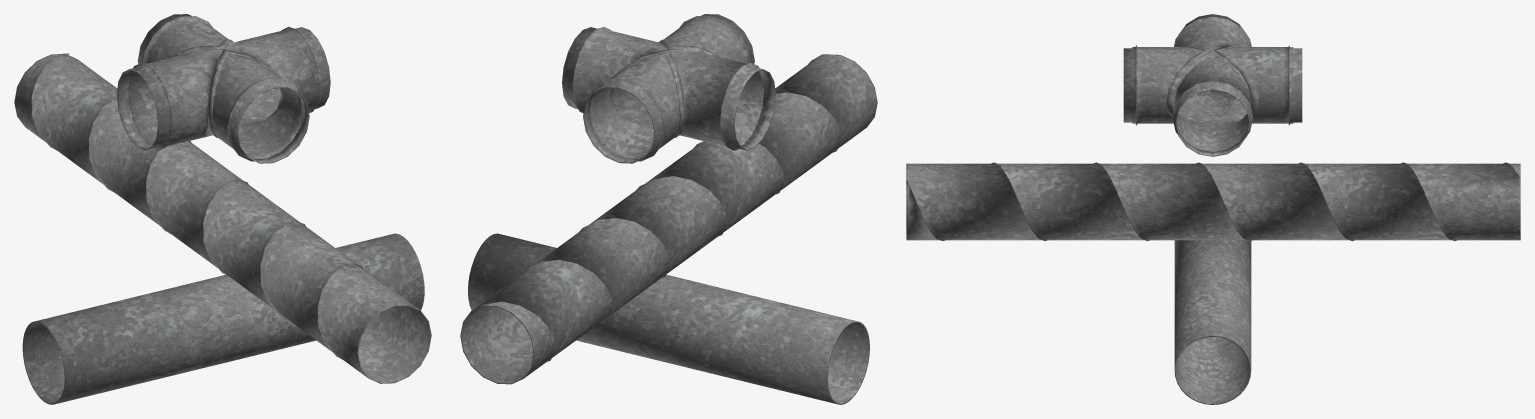
Rendered from IndustrialCeilingProject.fbx.
The picture shows the model from 3 angles, left to right: view 1: azimuth 30°, elevation 25°; view 2: azimuth 150°, elevation 25°; view 3: azimuth 270°, elevation 25°; orthographic projection. The views are drawn at different scales.
Visible parts, largest first — view 1: Cube.683, Cube.685, Cube.721; view 2: Cube.683, Cube.685, Cube.721; view 3: Cube.683, Cube.721, Cube.685.
Part boxes in pixels (left/top/right/bottom): Cube.683: left=14, top=53, right=431, bottom=383; Cube.685: left=22, top=233, right=424, bottom=404; Cube.721: left=116, top=14, right=330, bottom=163; Cube.683: left=460, top=54, right=877, bottom=384; Cube.685: left=468, top=233, right=869, bottom=404; Cube.721: left=562, top=14, right=775, bottom=163; Cube.683: left=906, top=162, right=1520, bottom=241; Cube.721: left=1123, top=14, right=1302, bottom=156; Cube.685: left=1174, top=240, right=1251, bottom=404.
Size of the model in its own units: 19558 by 16140 by 32361.
